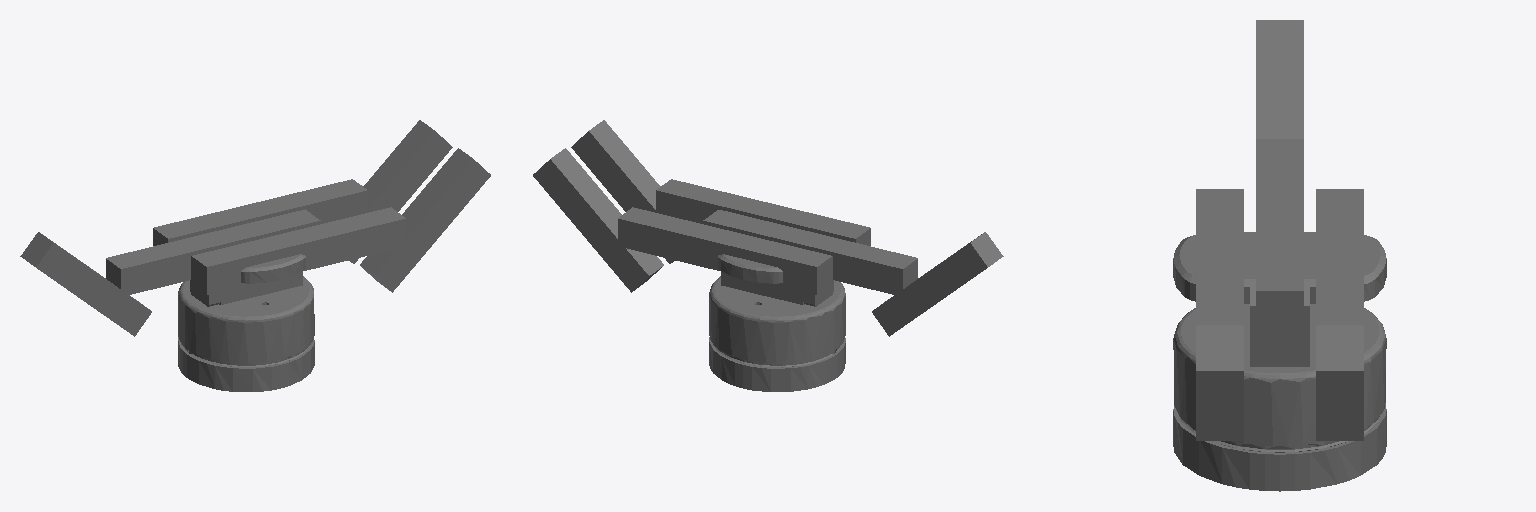
URDF robot description (wam):
<?xml version="1.0" ?>
<!-- =================================================================================== -->
<!-- |    This document was autogenerated by xacro from xacro/wam.urdf.xacro           | -->
<!-- |    EDITING THIS FILE BY HAND IS NOT RECOMMENDED                                 | -->
<!-- =================================================================================== -->
<robot name="wam" xmlns:xacro="http://www.ros.org/wiki/xacro">
  <!-- Set up definitions of parts of the robot body -->
  <!-- The first use of a macro. This one was defined in wambase.urdf.xacro above.
       A macro like this will expand to a set of link and joint definitions, and to additional
       Gazebo-related extensions (sensor plugins, etc).  The macro takes an argument, name, 
       that equals "wam", and uses it to generate names for its component links and joints 
       (e.g., wam_link_base).  The included origin block is also an argument to the macro.  By convention, 
       the origin block defines where the component is w.r.t its parent (in this case the parent 
       is the world frame). For more, see http://www.ros.org/wiki/xacro -->
  <link name="wam_link_base">
    <inertial>
      <mass value="20"/>
      <origin xyz="0.0 0.0 0.0"/>
      <inertia ixx="1.0" ixy="0.0" ixz="0.0" iyy="1.0" iyz="0.0" izz="1.0"/>
    </inertial>
    <visual>
      <origin rpy="0 0 0" xyz="0 0 0"/>
      <geometry>
        <mesh filename="package://wam_description/mesh/wambase.stl" scale="1.0 1.0 1.0"/>
      </geometry>
      <material name="Grey">
        <color rgba="0.75 0.75 0.75 1.0"/>
      </material>
    </visual>
    <collision>
      <origin rpy="0 0 0" xyz="0.0 0.0 0.0"/>
      <geometry>
        <mesh filename="package://wam_description/mesh/wambase.stl" scale="1.0 1.0 1.0"/>
      </geometry>
      <contact_coefficients kd="1.0" kp="1000.0" mu="0"/>
    </collision>
  </link>
  <link name="wam_link_footprint"/>
  <joint name="wam_joint_footprint" type="fixed">
    <origin rpy="0 0 0" xyz="0.22 0.14 0.346"/>
    <child link="wam_link_base"/>
    <parent link="wam_link_footprint"/>
  </joint>
  <gazebo reference="wam_link_base">
    <selfCollide>true</selfCollide>
    <material>Gazebo/Grey</material>
  </gazebo>
  <link name="wam_link_1">
    <inertial>
      <mass value="8.3936"/>
      <origin rpy="0 0 0" xyz="0.0 0.0 0.0"/>
      <inertia ixx="1.0" ixy="0.0" ixz="0.0" iyy="1.0" iyz="0.0" izz="1.0"/>
    </inertial>
    <visual>
      <origin rpy="0 0 0" xyz="0.0 0.0 0.0"/>
      <geometry name="wam_link_1_visual">
        <mesh filename="package://wam_description/mesh/wam1.stl" scale="1.0 1.0 1.0"/>
      </geometry>
      <material name="Grey">
        <color rgba="0.75 0.75 0.75 1.0"/>
      </material>
    </visual>
    <collision>
      <origin rpy="0 0 0" xyz="0.0 0.0 0.0"/>
      <geometry name="wam_link_1_collision">
        <mesh filename="package://wam_description/mesh/wam1.stl" scale="1.0 1.0 1.0"/>
        <!--                <box size="0.20 0.40 0.40"/> -->
      </geometry>
      <contact_coefficients kd="1.0" kp="1000.0" mu="0"/>
    </collision>
  </link>
  <gazebo reference="wam_link_1">
    <material>Gazebo/Grey</material>
    <selfCollide>true</selfCollide>
  </gazebo>
  <joint name="wam_joint_1" type="revolute">
    <parent link="wam_link_base"/>
    <child link="wam_link_1"/>
    <origin rpy="0 0 0" xyz="0.0 0.0 0.0"/>
    <axis xyz="0 0 1"/>
    <limit effort="30" lower="-2.6" upper="2.6" velocity="2.0"/>
    <!-- <safety_controller k_velocity="0.5"/> -->
    <dynamics damping="100"/>
  </joint>
  <transmission name="j1_transmission">
    <type>pr2_mechanism_model/SimpleTransmission</type>
    <actuator name="j1"/>
    <joint name="wam_joint_1"/>
    <mechanicalReduction>1</mechanicalReduction>
    <motorTorqueConstant>1</motorTorqueConstant>
    <!-- <pulsesPerRevolution>90000</pulsesPerRevolution> -->
  </transmission>
  <link name="wam_link_2">
    <inertial>
      <mass value="4.8487"/>
      <origin rpy="0 0 0" xyz="0 0 0"/>
      <inertia ixx="1.0" ixy="0.0" ixz="0.0" iyy="1.0" iyz="0.0" izz="1.0"/>
    </inertial>
    <visual>
      <origin rpy="0 0 0" xyz="0.0 0.0 0.0"/>
      <geometry name="wam_link_2_visual">
        <mesh filename="package://wam_description/mesh/wam2.stl" scale="1.0 1.0 1.0"/>
      </geometry>
      <material name="Grey">
        <color rgba="0.75 0.75 0.75 1.0"/>
      </material>
    </visual>
    <collision>
      <origin rpy="0 0 0" xyz="0.0 0.0 0.0"/>
      <geometry name="wam_link_2_collision">
        <mesh filename="package://wam_description/mesh/wam2.stl" scale="1.0 1.0 1.0"/>
        <!--                <box size="0.10 0.10 0.10"/> -->
      </geometry>
      <contact_coefficients kd="1.0" kp="1000.0" mu="0"/>
    </collision>
  </link>
  <gazebo reference="wam_link_2">
    <material>Gazebo/Grey</material>
    <selfCollide>true</selfCollide>
  </gazebo>
  <joint name="wam_joint_2" type="revolute">
    <parent link="wam_link_1"/>
    <child link="wam_link_2"/>
    <origin rpy="0 0 0" xyz="0.0 0.0 0.0"/>
    <axis xyz="0 1 0"/>
    <limit effort="30" lower="-2.0" upper="2.0" velocity="2.0"/>
    <!-- <safety_controller k_velocity="0.5"/> -->
    <dynamics damping="100"/>
  </joint>
  <transmission name="j2_transmission">
    <type>pr2_mechanism_model/SimpleTransmission</type>
    <actuator name="j2"/>
    <joint name="wam_joint_2"/>
    <mechanicalReduction>1</mechanicalReduction>
    <motorTorqueConstant>1</motorTorqueConstant>
    <!-- <pulsesPerRevolution>90000</pulsesPerRevolution> -->
  </transmission>
  <link name="wam_link_3">
    <inertial>
      <mass value="1.7251"/>
      <origin rpy="0 0 0" xyz="0 0 0.225"/>
      <inertia ixx="1.0" ixy="0.0" ixz="0.0" iyy="1.0" iyz="0.0" izz="1.0"/>
    </inertial>
    <visual>
      <origin rpy="0 0 0" xyz="0.0 0.0 0.0"/>
      <geometry name="wam_link_3_visual">
        <mesh filename="package://wam_description/mesh/wam3.stl" scale="1.0 1.0 1.0"/>
      </geometry>
      <material name="Grey">
        <color rgba="0.75 0.75 0.75 1.0"/>
      </material>
    </visual>
    <collision>
      <origin rpy="0 0 0" xyz="0.0 0.0 0.0"/>
      <geometry name="wam_link_3_collision">
        <mesh filename="package://wam_description/mesh/wam3.stl" scale="1.0 1.0 1.0"/>
        <!--                <box size="0.10 0.10 0.10"/> -->
      </geometry>
      <contact_coefficients kd="1.0" kp="1000.0" mu="0"/>
    </collision>
  </link>
  <gazebo reference="wam_link_3">
    <material>Gazebo/Grey</material>
    <selfCollide>true</selfCollide>
  </gazebo>
  <joint name="wam_joint_3" type="revolute">
    <parent link="wam_link_2"/>
    <child link="wam_link_3"/>
    <origin rpy="0 0 0" xyz="0.0 0.0 0.0"/>
    <axis xyz="0 0 1"/>
    <limit effort="30" lower="-2.8" upper="2.8" velocity="2.0"/>
    <!-- <safety_controller k_velocity="0.5"/> -->
    <dynamics damping="100"/>
  </joint>
  <transmission name="j3_transmission">
    <type>pr2_mechanism_model/SimpleTransmission</type>
    <actuator name="j3"/>
    <joint name="wam_joint_3"/>
    <mechanicalReduction>1</mechanicalReduction>
    <motorTorqueConstant>1</motorTorqueConstant>
    <!-- <pulsesPerRevolution>90000</pulsesPerRevolution> -->
  </transmission>
  <link name="wam_link_4">
    <inertial>
      <mass value="2.0824"/>
      <origin rpy="0 0 0" xyz="-0.045 -0.15 0"/>
      <inertia ixx="1.0" ixy="0.0" ixz="0.0" iyy="1.0" iyz="0.0" izz="1.0"/>
    </inertial>
    <visual>
      <origin rpy="0 0 0" xyz="0.0 0.0 0.0"/>
      <geometry name="wam_link_4_visual">
        <mesh filename="package://wam_description/mesh/wam4.stl" scale="1.0 1.0 1.0"/>
      </geometry>
      <material name="Grey">
        <color rgba="0.75 0.75 0.75 1.0"/>
      </material>
    </visual>
    <collision>
      <origin rpy="0 0 0" xyz="0.0 0.0 0.0"/>
      <geometry name="wam_link_4_collision">
        <mesh filename="package://wam_description/mesh/wam4.stl" scale="1.0 1.0 1.0"/>
        <!--                <box size="0.10 0.10 0.10"/> -->
      </geometry>
      <contact_coefficients kd="1.0" kp="1000.0" mu="0"/>
    </collision>
  </link>
  <gazebo reference="wam_link_4">
    <material>Gazebo/Grey</material>
    <selfCollide>true</selfCollide>
  </gazebo>
  <joint name="wam_joint_4" type="revolute">
    <parent link="wam_link_3"/>
    <child link="wam_link_4"/>
    <origin rpy="-1.57079632679 0 0" xyz="0.045 0.0 0.55"/>
    <axis xyz="0 0 1"/>
    <limit effort="35" lower="-0.9" upper="3.14159265359" velocity="2.0"/>
    <!-- <safety_controller k_velocity="0.5"/> -->
    <dynamics damping="100"/>
  </joint>
  <transmission name="j4_transmission">
    <type>pr2_mechanism_model/SimpleTransmission</type>
    <actuator name="j4"/>
    <joint name="wam_joint_4"/>
    <mechanicalReduction>1</mechanicalReduction>
    <motorTorqueConstant>1</motorTorqueConstant>
    <!-- <pulsesPerRevolution>90000</pulsesPerRevolution> -->
  </transmission>
  <link name="wam_link_5">
    <inertial>
      <mass value="0.3067"/>
      <origin rpy="0 0 0" xyz="0 0 0"/>
      <inertia ixx="1.0" ixy="0.0" ixz="0.0" iyy="1.0" iyz="0.0" izz="1.0"/>
    </inertial>
    <visual>
      <origin rpy="0 0 0" xyz="0.0 0.0 0.0"/>
      <geometry name="wam_link_5_visual">
        <mesh filename="package://wam_description/mesh/wam5.stl" scale="1.0 1.0 1.0"/>
      </geometry>
      <material name="Grey">
        <color rgba="0.75 0.75 0.75 1.0"/>
      </material>
    </visual>
    <collision>
      <origin rpy="0 0 0" xyz="0.0 0.0 0.0"/>
      <geometry name="wam_link_5_collision">
        <mesh filename="package://wam_description/mesh/wam5.stl" scale="1.0 1.0 1.0"/>
        <!--                <box size="0.10 0.10 0.10"/> -->
      </geometry>
      <contact_coefficients kd="1.0" kp="1000.0" mu="0"/>
    </collision>
  </link>
  <gazebo reference="wam_link_5">
    <material>Gazebo/Grey</material>
    <selfCollide>true</selfCollide>
  </gazebo>
  <joint name="wam_joint_5" type="revolute">
    <parent link="wam_link_4"/>
    <child link="wam_link_5"/>
    <origin rpy="1.57079632679 0 0" xyz="-0.045 -0.3 0.0"/>
    <axis xyz="0 0 1"/>
    <limit effort="30" lower="-4.76" upper="1.24" velocity="2.0"/>
    <!-- <safety_controller k_velocity="0.5"/> -->
    <dynamics damping="100"/>
  </joint>
  <transmission name="j5_transmission">
    <type>pr2_mechanism_model/SimpleTransmission</type>
    <actuator name="j5"/>
    <joint name="wam_joint_5"/>
    <mechanicalReduction>1</mechanicalReduction>
    <motorTorqueConstant>1</motorTorqueConstant>
    <!-- <pulsesPerRevolution>90000</pulsesPerRevolution> -->
  </transmission>
  <link name="wam_link_6">
    <inertial>
      <mass value="0.4278"/>
      <origin rpy="0 0 0" xyz="0 0 0"/>
      <inertia ixx="1.0" ixy="0.0" ixz="0.0" iyy="1.0" iyz="0.0" izz="1.0"/>
    </inertial>
    <visual>
      <origin rpy="0 0 0" xyz="0.0 0.0 0.0"/>
      <geometry name="wam_link_6_visual">
        <mesh filename="package://wam_description/mesh/wam6.stl" scale="1.0 1.0 1.0"/>
      </geometry>
      <material name="Grey">
        <color rgba="0.75 0.75 0.75 1.0"/>
      </material>
    </visual>
    <collision>
      <origin rpy="0 0 0" xyz="0.0 0.0 0.0"/>
      <geometry name="wam_link_6_collision">
        <mesh filename="package://wam_description/mesh/wam6.stl" scale="1.0 1.0 1.0"/>
        <!--                <box size="0.10 0.10 0.10"/> -->
      </geometry>
      <contact_coefficients kd="1.0" kp="1000.0" mu="0"/>
    </collision>
  </link>
  <gazebo reference="wam_link_6">
    <material>Gazebo/Grey</material>
    <selfCollide>true</selfCollide>
  </gazebo>
  <joint name="wam_joint_6" type="revolute">
    <parent link="wam_link_5"/>
    <child link="wam_link_6"/>
    <origin rpy="-1.57079632679 0 0" xyz="0.0 0.0 0.0"/>
    <axis xyz="0 0 1"/>
    <limit effort="30" lower="-1.6" upper="1.6" velocity="2.0"/>
    <!-- <safety_controller k_velocity="0.5"/> -->
    <dynamics damping="100"/>
  </joint>
  <transmission name="j6_transmission">
    <type>pr2_mechanism_model/SimpleTransmission</type>
    <actuator name="j6"/>
    <joint name="wam_joint_6"/>
    <mechanicalReduction>1</mechanicalReduction>
    <motorTorqueConstant>1</motorTorqueConstant>
    <!-- <pulsesPerRevolution>90000</pulsesPerRevolution> -->
  </transmission>
  <link name="wam_link_7">
    <inertial>
      <mass value="0.0557"/>
      <origin rpy="0 0 0" xyz="0 0 0"/>
      <inertia ixx="1.0" ixy="0.0" ixz="0.0" iyy="1.0" iyz="0.0" izz="1.0"/>
    </inertial>
    <visual>
      <origin rpy="0 0 0" xyz="0.0 0.0 0.0"/>
      <geometry name="wam_link_7_visual">
        <mesh filename="package://wam_description/mesh/wam7.stl" scale="1.0 1.0 1.0"/>
      </geometry>
      <material name="Grey">
        <color rgba="0.75 0.75 0.75 1.0"/>
      </material>
    </visual>
    <collision>
      <origin rpy="0 0 0" xyz="0.0 0.0 0.0"/>
      <geometry name="wam_link_7_collision">
        <mesh filename="package://wam_description/mesh/wam7.stl" scale="1.0 1.0 1.0"/>
        <!--                <box size="0.10 0.10 0.10"/> -->
      </geometry>
      <contact_coefficients kd="1.0" kp="1000.0" mu="0"/>
    </collision>
  </link>
  <gazebo reference="wam_link_7">
    <material>Gazebo/Grey</material>
    <selfCollide>true</selfCollide>
  </gazebo>
  <joint name="wam_joint_7" type="revolute">
    <parent link="wam_link_6"/>
    <child link="wam_link_7"/>
    <origin rpy="1.57079632679 0 0" xyz="0.0 0.0 0.0"/>
    <axis xyz="0 0 1"/>
    <limit effort="30" lower="-1.5" upper="1.5" velocity="2.0"/>
    <!-- <safety_controller k_velocity="0.5"/> -->
    <dynamics damping="100"/>
  </joint>
  <transmission name="j7_transmission">
    <type>pr2_mechanism_model/SimpleTransmission</type>
    <actuator name="j7"/>
    <joint name="wam_joint_7"/>
    <mechanicalReduction>1</mechanicalReduction>
    <motorTorqueConstant>1</motorTorqueConstant>
    <!-- <pulsesPerRevolution>90000</pulsesPerRevolution> -->
  </transmission>
  <link name="wam_link_tcp"/>
  <joint name="wam_joint_tcp" type="fixed">
    <parent link="wam_link_7"/>
    <child link="wam_link_tcp"/>
    <origin rpy="0 0 0" xyz="0.0 0.0 0.06"/>
  </joint>
  <link name="bhand_base_link">
    <visual>
      <origin rpy="0 0 0" xyz="0 0 0"/>
      <geometry>
        <mesh filename="package://wam_description/mesh/bh_base.stl"/>
      </geometry>
      <material name="Grey">
        <color rgba="0.5 0.5 0.5 1.0"/>
      </material>
    </visual>
    <collision>
      <origin rpy="0 0 0" xyz="0 0 0"/>
      <geometry>
        <mesh filename="package://wam_description/mesh/bh_base.stl"/>
      </geometry>
      <contact_coefficients kd="1.0" kp="1000.0" mu="0"/>
    </collision>
  </link>
  <joint name="bhand_joint_fixed" type="fixed">
    <parent link="wam_link_7"/>
    <child link="bhand_base_link"/>
    <origin rpy="0 0 0" xyz="0 0 0"/>
    <axis xyz="0 0 1"/>
    <limit effort="30" lower="0.0" upper="3.14159265359" velocity="2.0"/>
  </joint>
  <link name="bhand_finger1_link_1">
    <visual>
      <origin rpy="0 0 0" xyz="0 0 0"/>
      <geometry>
        <box size = "0.1 0.02 0.02"/>
        <!-- <mesh filename="package://wam_description/mesh/bh_link1.stl"/> -->
      </geometry>
      <material name="Grey">
        <color rgba="0.5 0.5 0.5 1.0"/>
      </material>
    </visual>
    <collision>
      <origin rpy="0 0 0" xyz="0 0 0"/>
      <geometry>
        <box size = "0.1 0.02 0.02"/>
        <!-- <mesh filename="package://wam_description/mesh/bh_link1.stl"/> -->
      </geometry>
          </collision>
  </link>
  <joint name="bhand_spread" type="fixed">
    <parent link="bhand_base_link"/>
    <child link="bhand_finger1_link_1"/>
    <origin rpy="0 0 0" xyz="0 -0.025 0.133"/>
  </joint>
  <link name="bhand_finger2_link_1">
    <visual>
      <origin rpy="0 0 0" xyz="0 0 0"/>
      <geometry>
        <box size = "0.1 0.02 0.02"/>
        <!-- <mesh filename="package://wam_description/mesh/bh_link1.stl"/> -->
      </geometry>
      <material name="Grey">
        <color rgba="0.5 0.5 0.5 1.0"/>
      </material>
    </visual>
    <collision>
      <origin rpy="0 0 0" xyz="0 0 0"/>
      <geometry>
        <box size = "0.1 0.02 0.02"/>
        <!-- <mesh filename="package://wam_description/mesh/bh_link1.stl"/> -->
      </geometry>
    </collision>
  </link>
  <joint name="bhand_spread_finger2" type="fixed">
    <parent link="bhand_base_link"/>
    <child link="bhand_finger2_link_1"/>
    <origin rpy="0 0 0" xyz="0 0.025 0.133"/>
  </joint>
  <link name="bhand_finger3_link_1">
    <visual>
      <origin rpy="0 0 0" xyz="0 0 0"/>
      <geometry>
        <box size = "0.1 0.02 0.02"/>
        <!-- <mesh filename="package://wam_description/mesh/bh_link1.stl"/> -->
      </geometry>
      <material name="Grey">
        <color rgba="0.5 0.5 0.5 1.0"/>
      </material>
    </visual>
    <collision>
      <origin rpy="0 0 0" xyz="0 0 0"/>
      <geometry>
        <box size = "0.1 0.02 0.02"/>
        <!-- <mesh filename="package://wam_description/mesh/bh_link1.stl"/> -->
      </geometry>
    </collision>
  </link>
  <joint name="bhand_finger3_joint_1" type="fixed">
    <parent link="bhand_base_link"/>
    <child link="bhand_finger3_link_1"/>
    <origin rpy="0 0 3.14159265359" xyz="0 0 0.133"/>
  </joint>
  <link name="bhand_finger1_link_2">
    <visual>
      <origin rpy="0 0 0" xyz="0 0 0"/>
      <geometry>
        <box size = "0.1 0.02 0.02"/>
        <!-- <mesh filename="package://wam_description/mesh/bh_link2.stl"/> -->
      </geometry>
      <material name="Grey">
        <color rgba="0.5 0.5 0.5 1.0"/>
      </material>
    </visual>
    <collision>
      <origin rpy="0 0 0" xyz="0 0 0"/>
      <geometry>
        <box size = "0.1 0.02 0.02"/>
        <!-- <mesh filename="package://wam_description/mesh/bh_link2.stl"/> -->
      </geometry>
    </collision>
  </link>
  <joint name="bhand_finger1" type="revolute">
    <parent link="bhand_finger1_link_1"/>
    <child link="bhand_finger1_link_2"/>
    <origin rpy="1.57079632679 0 0" xyz="0.050 0 0"/>
    <axis xyz="0 0 1"/>
    <limit effort="30" lower="0.0" upper="2.44346095279" velocity="2.0"/>
  </joint>
  <link name="bhand_finger1_link_3">
    <visual>
      <origin rpy="0 0 0" xyz="0 0 0"/>
      <geometry>
        <box size = "0.1 0.02 0.02"/>
        <!-- <mesh filename="package://wam_description/mesh/bh_link3.stl"/> -->
      </geometry>
      <material name="Grey">
        <color rgba="0.5 0.5 0.5 1.0"/>
      </material>
    </visual>
    <collision>
      <origin rpy="0 0 0" xyz="0 0 0"/>
      <geometry>
        <box size = "0.1 0.02 0.02"/>
        <!-- <mesh filename="package://wam_description/mesh/bh_link3.stl"/> -->
      </geometry>
    </collision>
  </link>
  <joint name="bhand_finger1_joint_3" type="revolute">
    <parent link="bhand_finger1_link_2"/>
    <child link="bhand_finger1_link_3"/>
    <origin rpy="0 0 0.733038285838" xyz="0.070 0 0"/>
    <axis xyz="0 0 1"/>
    <limit effort="30" lower="0" upper="0.837758040957" velocity="2.0"/>
    <mimic joint="bhand_finger1" multiplier="0.342857142857" offset="0"/>
  </joint>
  <link name="bhand_finger2_link_2">
    <visual>
      <origin rpy="0 0 0" xyz="0 0 0"/>
      <geometry>
        <box size = "0.1 0.02 0.02"/>
        <!-- <mesh filename="package://wam_description/mesh/bh_link2.stl"/> -->
      </geometry>
      <material name="Grey">
        <color rgba="0.5 0.5 0.5 1.0"/>
      </material>
    </visual>
    <collision>
      <origin rpy="0 0 0" xyz="0 0 0"/>
      <geometry>
        <box size = "0.1 0.02 0.02"/>
        <!-- <mesh filename="package://wam_description/mesh/bh_link2.stl"/> -->
      </geometry>
    </collision>
  </link>
  <joint name="bhand_finger2" type="revolute">
    <parent link="bhand_finger2_link_1"/>
    <child link="bhand_finger2_link_2"/>
    <origin rpy="1.57079632679 0 0" xyz="0.050 0 0"/>
    <axis xyz="0 0 1"/>
    <limit effort="30" lower="0.0" upper="2.44346095279" velocity="2.0"/>
  </joint>
  <link name="bhand_finger2_link_3">
    <visual>
      <origin rpy="0 0 0" xyz="0 0 0"/>
      <geometry>
        <box size = "0.1 0.02 0.02"/>
        <!-- <mesh filename="package://wam_description/mesh/bh_link3.stl"/> -->
      </geometry>
      <material name="Grey">
        <color rgba="0.5 0.5 0.5 1.0"/>
      </material>
    </visual>
    <collision>
      <origin rpy="0 0 0" xyz="0 0 0"/>
      <geometry>
        <box size = "0.1 0.02 0.02"/>
        <!-- <mesh filename="package://wam_description/mesh/bh_link3.stl"/> -->
      </geometry>
    </collision>
  </link>
  <joint name="bhand_finger2_joint_3" type="revolute">
    <parent link="bhand_finger2_link_2"/>
    <child link="bhand_finger2_link_3"/>
    <origin rpy="0 0 0.733038285838" xyz="0.070 0 0"/>
    <axis xyz="0 0 1"/>
    <limit effort="30" lower="0" upper="0.837758040957" velocity="2.0"/>
    <mimic joint="bhand_finger2" multiplier="0.342857142857" offset="0"/>
  </joint>
  <link name="bhand_finger3_link_2">
    <visual>
      <origin rpy="0 0 0" xyz="0 0 0"/>
      <geometry>
        <box size = "0.1 0.02 0.02"/>
        <!-- <mesh filename="package://wam_description/mesh/bh_link2.stl"/> -->
      </geometry>
      <material name="Grey">
        <color rgba="0.5 0.5 0.5 1.0"/>
      </material>
    </visual>
    <collision>
      <origin rpy="0 0 0" xyz="0 0 0"/>
      <geometry>
        <box size = "0.1 0.02 0.02"/>
        <!-- <mesh filename="package://wam_description/mesh/bh_link2.stl"/> -->
      </geometry>
    </collision>
  </link>
  <joint name="bhand_finger3" type="revolute">
    <parent link="bhand_finger3_link_1"/>
    <child link="bhand_finger3_link_2"/>
    <origin rpy="1.57079632679 0 0" xyz="0.050 0 0"/>
    <axis xyz="0 0 1"/>
    <limit effort="30" lower="0.0" upper="2.44346095279" velocity="2.0"/>
  </joint>
  <link name="bhand_finger3_link_3">
    <visual>
      <origin rpy="0 0 0" xyz="0 0 0"/>
      <geometry>
        <box size = "0.1 0.02 0.02"/>
        <!-- <mesh filename="package://wam_description/mesh/bh_link3.stl"/> -->
      </geometry>
      <material name="Grey">
        <color rgba="0.5 0.5 0.5 1.0"/>
      </material>
    </visual>
    <collision>
      <origin rpy="0 0 0" xyz="0 0 0"/>
      <geometry>
        <box size = "0.1 0.02 0.02"/>
        <!-- <mesh filename="package://wam_description/mesh/bh_link3.stl"/> -->
      </geometry>
    </collision>
  </link>
  <joint name="bhand_finger3_joint_3" type="revolute">
    <parent link="bhand_finger3_link_2"/>
    <child link="bhand_finger3_link_3"/>
    <origin rpy="0 0 0.733038285838" xyz="0.070 0 0"/>
    <axis xyz="0 0 1"/>
    <limit effort="30" lower="0" upper="0.837758040957" velocity="2.0"/>
    <mimic joint="bhand_finger3" multiplier="0.342857142857" offset="0"/>
  </joint>
</robot>

--- What the picture shows (computed from the rendered views, not written in the file) ---
3 views of the same robot in one strip: view 1: azimuth 30°, elevation 25°; view 2: azimuth 150°, elevation 25°; view 3: azimuth 270°, elevation 25° (orthographic).
Model wam with 20 links and 19 joints (13 revolute, 6 fixed), rooted at wam_link_footprint, posed every joint at zero.
Visible links, largest first — view 1: bhand_base_link, bhand_finger1_link_3, bhand_finger3_link_3, bhand_finger1_link_1, bhand_finger2_link_3, bhand_finger1_link_2, bhand_finger3_link_2, bhand_finger2_link_2, bhand_finger3_link_1, bhand_finger2_link_1; view 2: bhand_base_link, bhand_finger2_link_3, bhand_finger3_link_3, bhand_finger2_link_1, bhand_finger1_link_3, bhand_finger2_link_2, bhand_finger3_link_2, bhand_finger1_link_2, bhand_finger1_link_1, bhand_finger3_link_1; view 3: bhand_base_link, bhand_finger3_link_1, bhand_finger3_link_3, bhand_finger1_link_3, bhand_finger2_link_3, bhand_finger1_link_1, bhand_finger2_link_1, bhand_finger3_link_2, bhand_finger2_link_2, bhand_finger1_link_2.
Link boxes in pixels (x1=…): bhand_base_link: x1=178, y1=254, x2=314, y2=391; bhand_finger1_link_3: x1=360, y1=148, x2=490, y2=292; bhand_finger3_link_3: x1=20, y1=232, x2=151, y2=336; bhand_finger1_link_1: x1=191, y1=226, x2=339, y2=294; bhand_finger2_link_3: x1=348, y1=120, x2=452, y2=263; bhand_finger1_link_2: x1=259, y1=207, x2=405, y2=261; bhand_finger3_link_2: x1=106, y1=235, x2=253, y2=296; bhand_finger2_link_2: x1=220, y1=179, x2=367, y2=225; bhand_finger3_link_1: x1=173, y1=209, x2=320, y2=280; bhand_finger2_link_1: x1=153, y1=199, x2=287, y2=245; bhand_base_link: x1=709, y1=254, x2=845, y2=391; bhand_finger2_link_3: x1=533, y1=148, x2=663, y2=292; bhand_finger3_link_3: x1=872, y1=232, x2=1003, y2=336; bhand_finger2_link_1: x1=684, y1=223, x2=832, y2=294; bhand_finger1_link_3: x1=571, y1=120, x2=675, y2=263; bhand_finger2_link_2: x1=618, y1=207, x2=764, y2=269; bhand_finger3_link_2: x1=770, y1=236, x2=917, y2=296; bhand_finger1_link_2: x1=656, y1=179, x2=790, y2=225; bhand_finger1_link_1: x1=723, y1=198, x2=870, y2=245; bhand_finger3_link_1: x1=703, y1=210, x2=850, y2=279; bhand_base_link: x1=1173, y1=232, x2=1386, y2=491; bhand_finger3_link_1: x1=1256, y1=189, x2=1303, y2=333; bhand_finger3_link_3: x1=1256, y1=20, x2=1303, y2=138; bhand_finger1_link_3: x1=1196, y1=325, x2=1243, y2=440; bhand_finger2_link_3: x1=1316, y1=325, x2=1363, y2=440; bhand_finger1_link_1: x1=1196, y1=189, x2=1243, y2=290; bhand_finger2_link_1: x1=1316, y1=189, x2=1363, y2=290; bhand_finger3_link_2: x1=1256, y1=139, x2=1303, y2=222; bhand_finger2_link_2: x1=1316, y1=251, x2=1363, y2=324; bhand_finger1_link_2: x1=1196, y1=252, x2=1243, y2=324.
Size in the robot's own frame: 0.3277 by 0.089 by 0.1259 metres.
Meshes: 9 distinct files referenced, 1 mesh visuals loaded (1 binary STL); not drawn: 8 (reference not matched to a file when rendering).